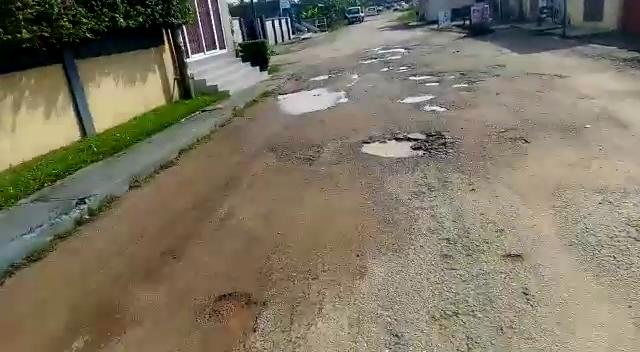pothole: (203, 290, 267, 348), (358, 133, 439, 160), (273, 87, 347, 115), (492, 129, 528, 146), (394, 93, 436, 103), (409, 72, 443, 80), (421, 104, 447, 113)
